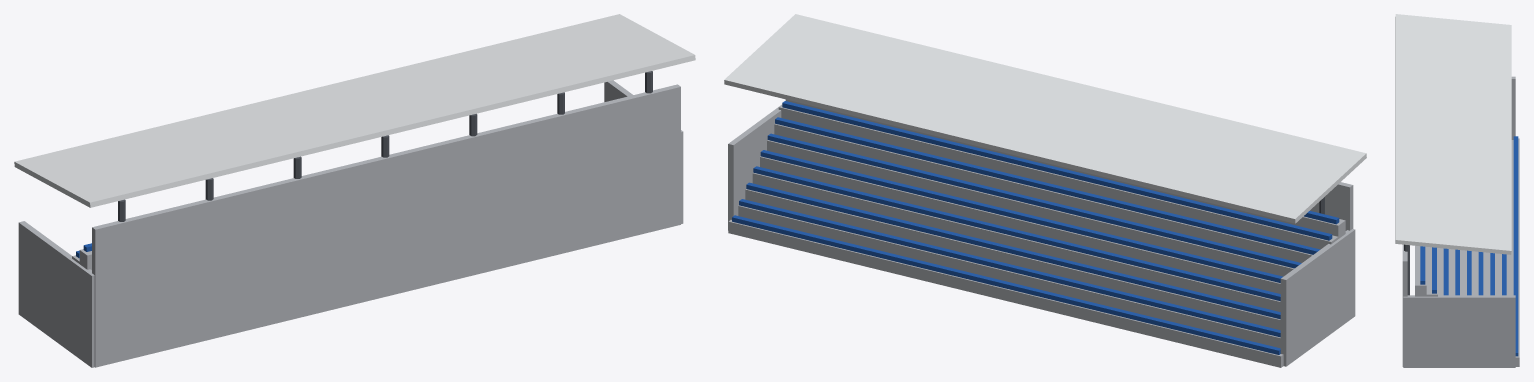
The model's file is grandstand.glb.
3 views of the same model, side by side, from view 1: azimuth 30°, elevation 25°; view 2: azimuth 150°, elevation 25°; view 3: azimuth 270°, elevation 25° (orthographic). The views are drawn at different scales.
Visible parts, largest first — view 1: grandstand; view 2: grandstand; view 3: grandstand.
Part boxes in pixels (x1,y1,x2,y2): grandstand: [14, 14, 695, 367]; grandstand: [724, 14, 1366, 367]; grandstand: [1395, 14, 1519, 367].
Bounding box in the file's own units: 62 × 16.7 × 14.41.
